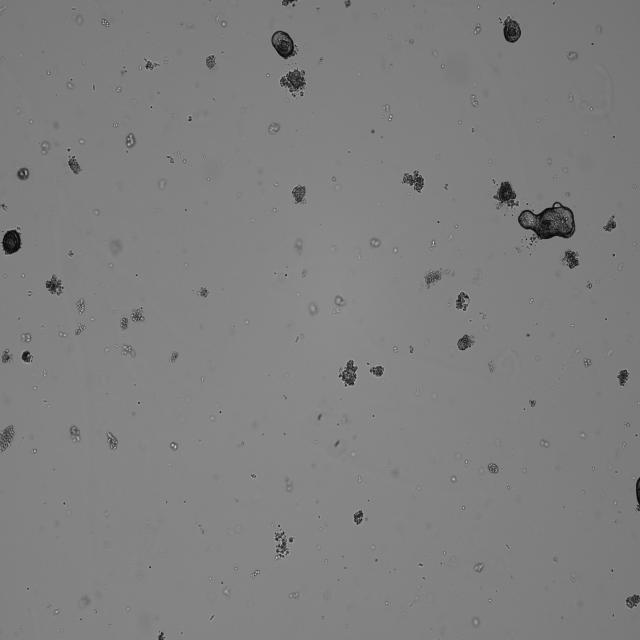alive: (519, 199, 578, 243), (268, 30, 300, 60), (501, 13, 523, 44), (4, 228, 22, 257)
dead: (276, 66, 311, 100), (491, 175, 519, 208), (270, 528, 296, 562), (400, 167, 428, 196), (336, 355, 359, 386), (0, 421, 19, 457), (288, 182, 312, 208), (454, 330, 476, 355), (46, 272, 66, 297), (453, 288, 472, 313)
